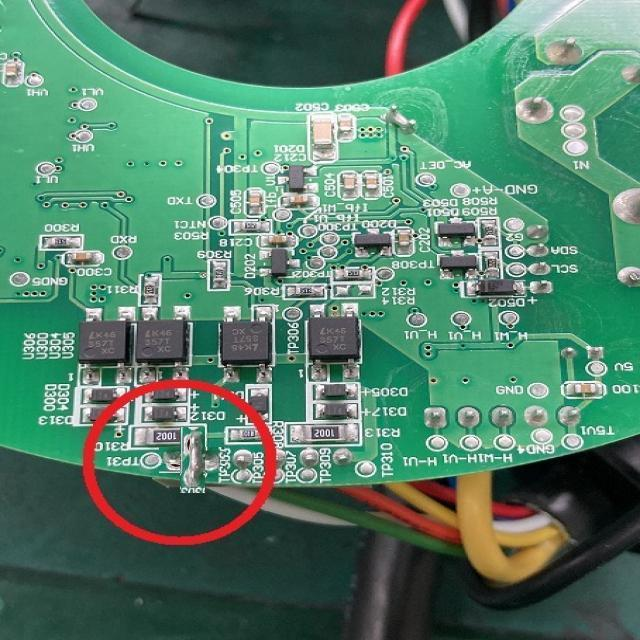damged: (169, 438, 215, 483)
